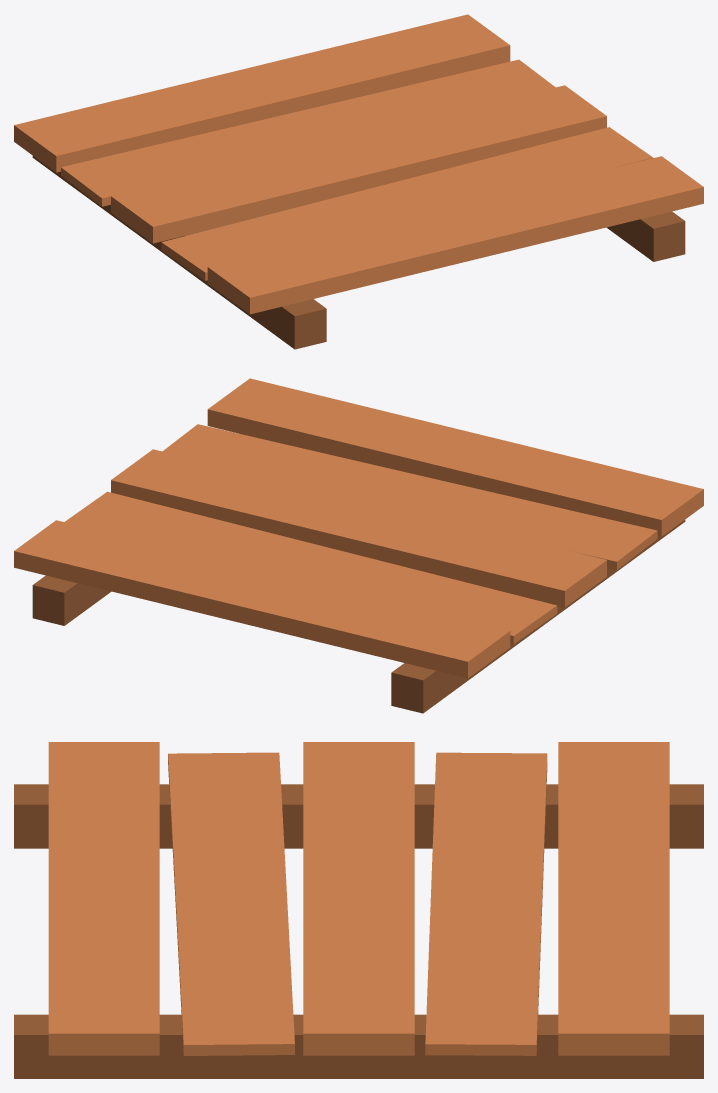
The model's file is platform.fbx.
3 views of the same model, one above another, from view 1: azimuth 30°, elevation 25°; view 2: azimuth 150°, elevation 25°; view 3: azimuth 270°, elevation 25° (orthographic). The views are drawn at different scales.
Visible parts, largest first — view 1: platform; view 2: platform; view 3: platform.
Part boxes in pixels (left/top/right/bottom): platform: left=14, top=14, right=703, bottom=349; platform: left=14, top=378, right=703, bottom=713; platform: left=14, top=742, right=703, bottom=1078.
Size of the model in its own units: 10.03 by 1.05 by 10.
